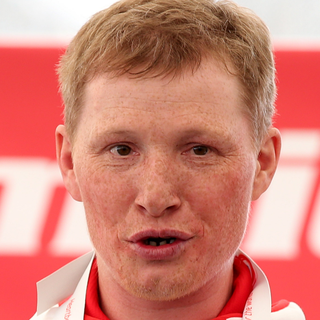eye: (177, 139, 225, 164), (98, 138, 142, 163)
